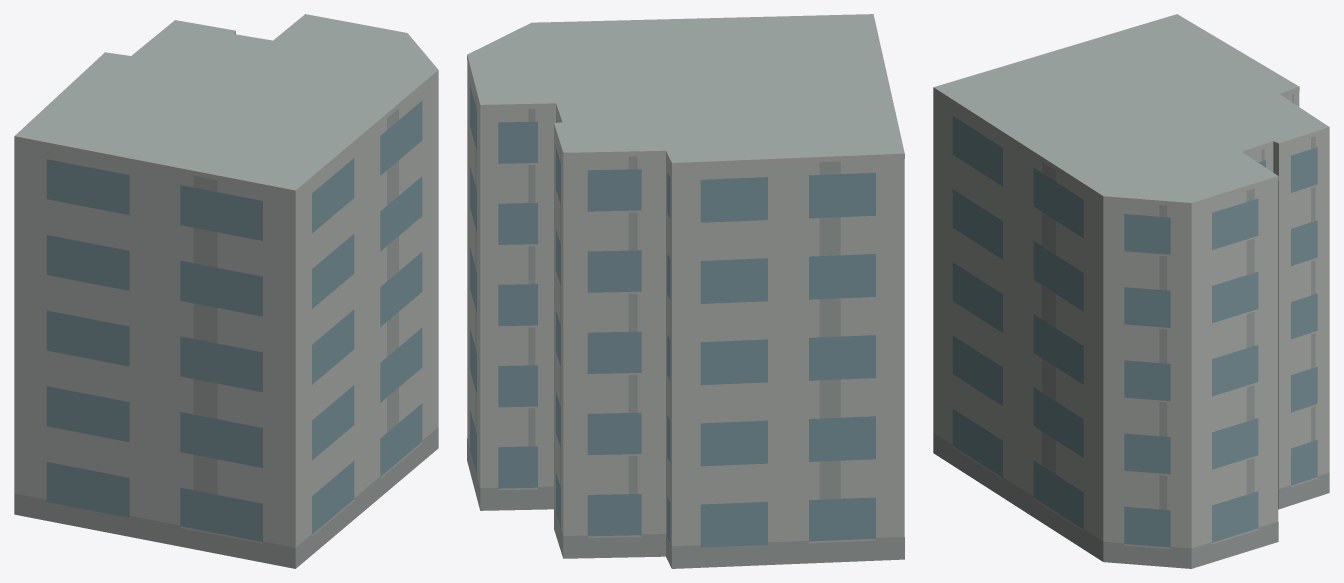
The model's file is survey-upis-32774584.glb.
The picture shows the model from 3 angles, left to right: view 1: azimuth 30°, elevation 25°; view 2: azimuth 150°, elevation 25°; view 3: azimuth 270°, elevation 25°; orthographic projection. The views are drawn at different scales.
Visible parts, largest first — view 1: survey-upis-32774584.tmp; view 2: survey-upis-32774584.tmp; view 3: survey-upis-32774584.tmp.
Part boxes in pixels (<box>): survey-upis-32774584.tmp: <box>14,14,438,568</box>; survey-upis-32774584.tmp: <box>467,14,904,568</box>; survey-upis-32774584.tmp: <box>933,14,1329,568</box>.
Size of the model in its own units: 20.89 by 18.85 by 18.51.
